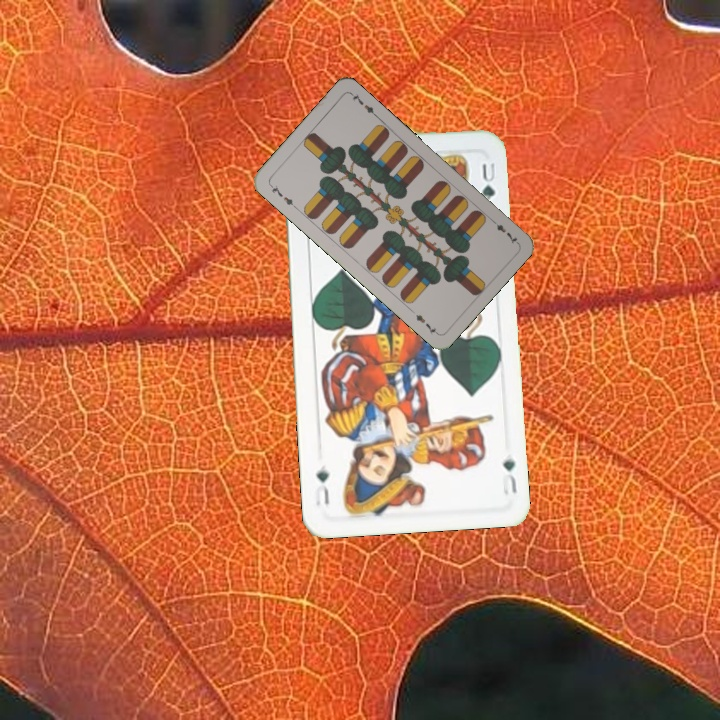E7: (487, 215, 521, 247), (265, 180, 299, 211)
GU: (498, 454, 520, 497)
